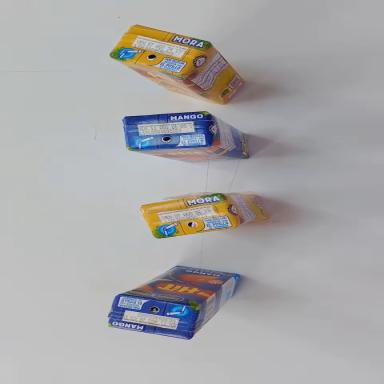HIT-MANGO: (107, 258, 240, 345), (124, 108, 249, 167)
HIT-MORA: (105, 14, 253, 112), (140, 186, 268, 241)
cara_F: (118, 258, 236, 312), (105, 57, 226, 105), (130, 143, 248, 166)
